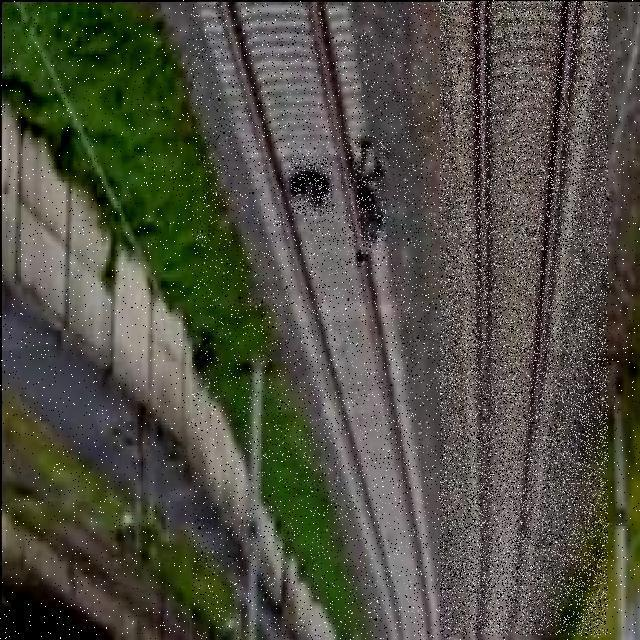danger: (348, 142, 386, 263), (291, 158, 332, 214)
rail: (193, 3, 454, 640), (441, 1, 608, 635)
